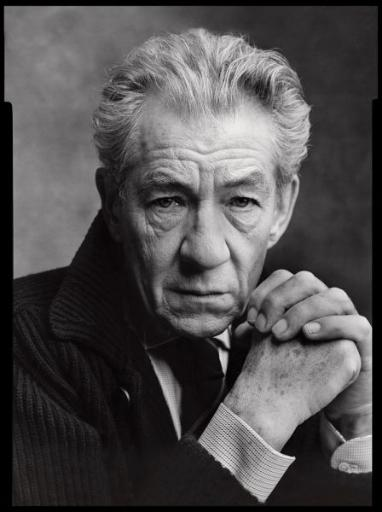left_eye: (226, 195, 263, 212)
left_lip_corner: (220, 286, 238, 301)
right_eye: (145, 194, 188, 214)
right_lip_corner: (165, 285, 182, 296)
